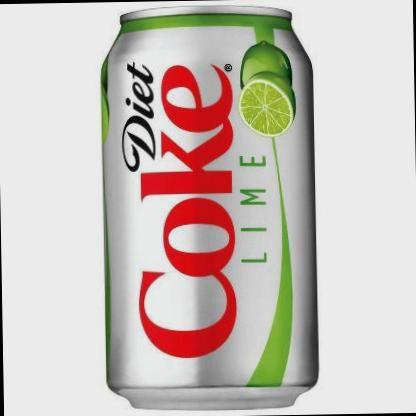alumunium_can: (99, 1, 322, 410)
